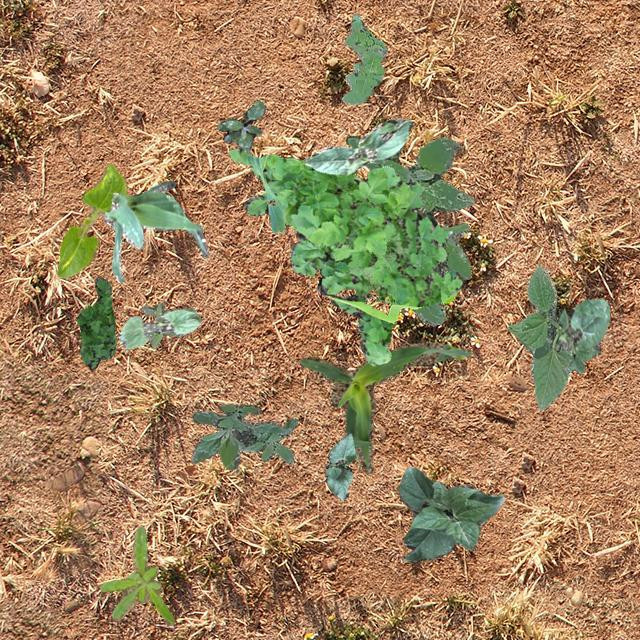crop: (298, 341, 471, 474), (102, 180, 208, 282), (398, 466, 502, 562), (506, 264, 572, 408), (56, 162, 126, 278), (304, 118, 412, 174), (556, 298, 610, 372), (116, 307, 200, 348), (324, 432, 354, 499)
weed: (228, 148, 460, 364), (344, 134, 474, 326), (100, 524, 174, 624), (190, 404, 298, 469), (340, 12, 386, 104), (74, 276, 114, 368), (217, 100, 264, 152), (140, 302, 178, 346)
